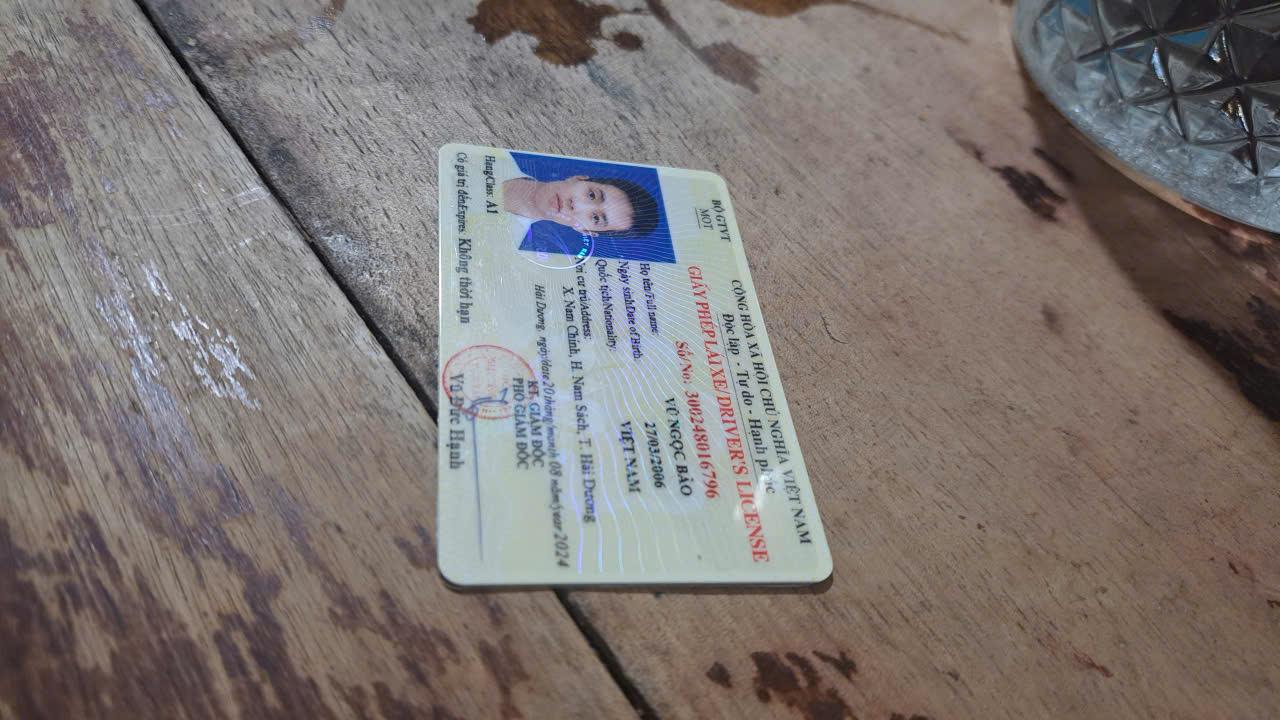gplx: (431, 136, 836, 594)
